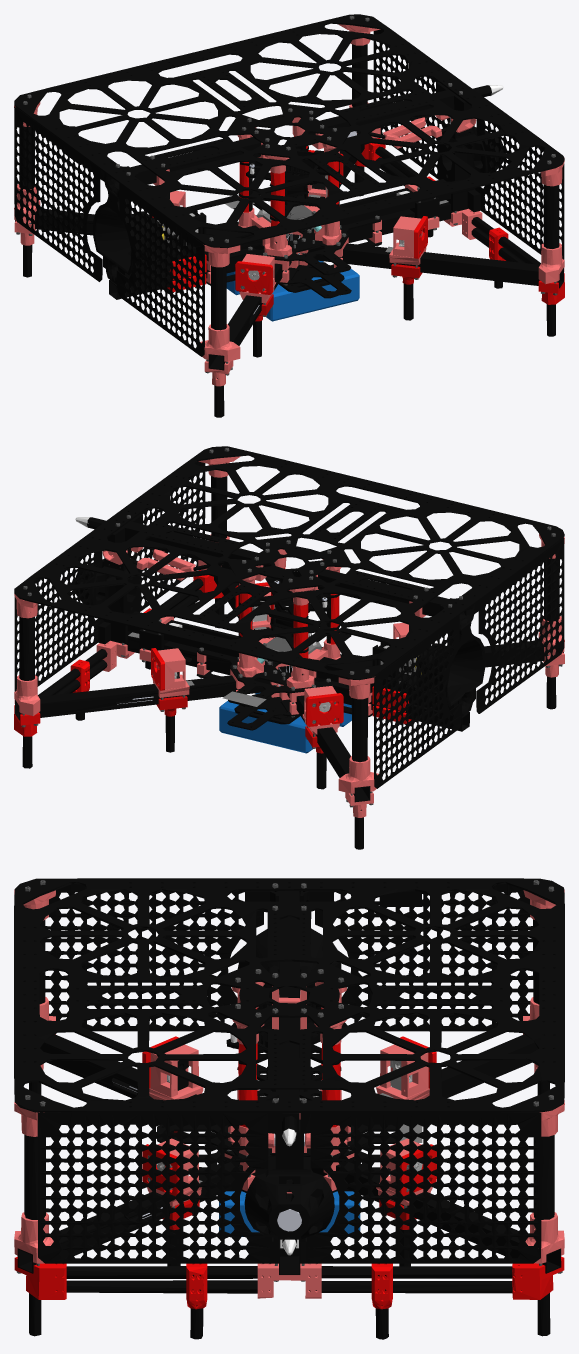
File: base_link_hyper_fang.dae
3 renders of one model, top to bottom at view 1: azimuth 30°, elevation 25°; view 2: azimuth 150°, elevation 25°; view 3: azimuth 270°, elevation 25°, orthographic. The views are drawn at different scales.
Parts seen in each view (by area): view 1: Shape_IndexedFaceSet; view 2: Shape_IndexedFaceSet; view 3: Shape_IndexedFaceSet.
Part boxes in pixels (left/top/right/bottom): Shape_IndexedFaceSet: left=14, top=14, right=564, bottom=417; Shape_IndexedFaceSet: left=14, top=446, right=564, bottom=849; Shape_IndexedFaceSet: left=14, top=878, right=564, bottom=1339.
Size of the model in its own units: 0.5686 by 0.5201 by 0.244.
